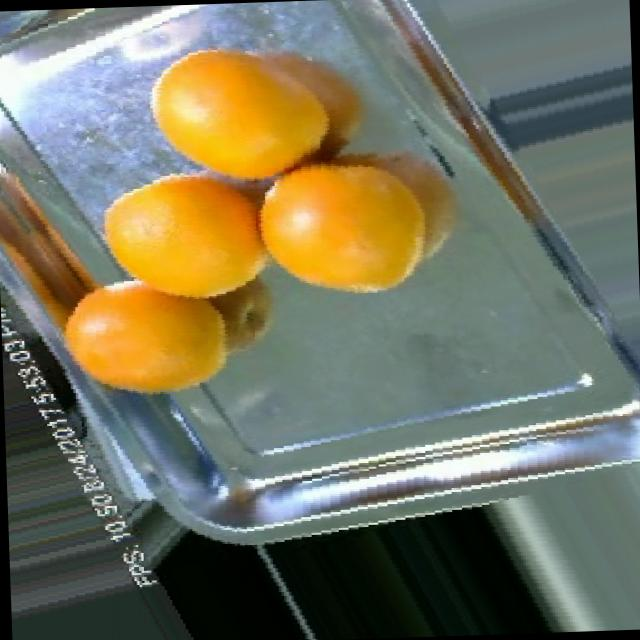Fruit: (74, 148, 300, 322)
